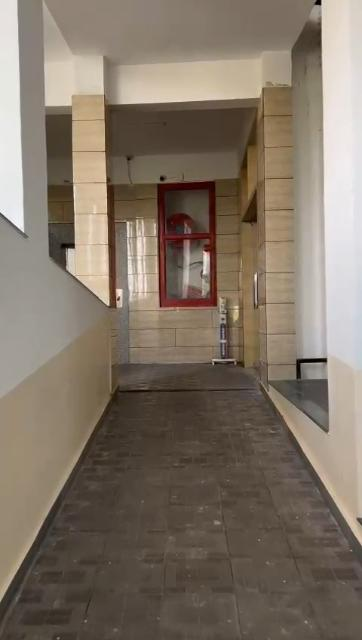floor: (5, 357, 362, 636)
wall: (0, 5, 112, 608), (331, 2, 362, 504), (263, 47, 295, 381), (76, 37, 112, 303), (131, 309, 209, 361), (127, 185, 157, 309), (218, 182, 244, 292)
